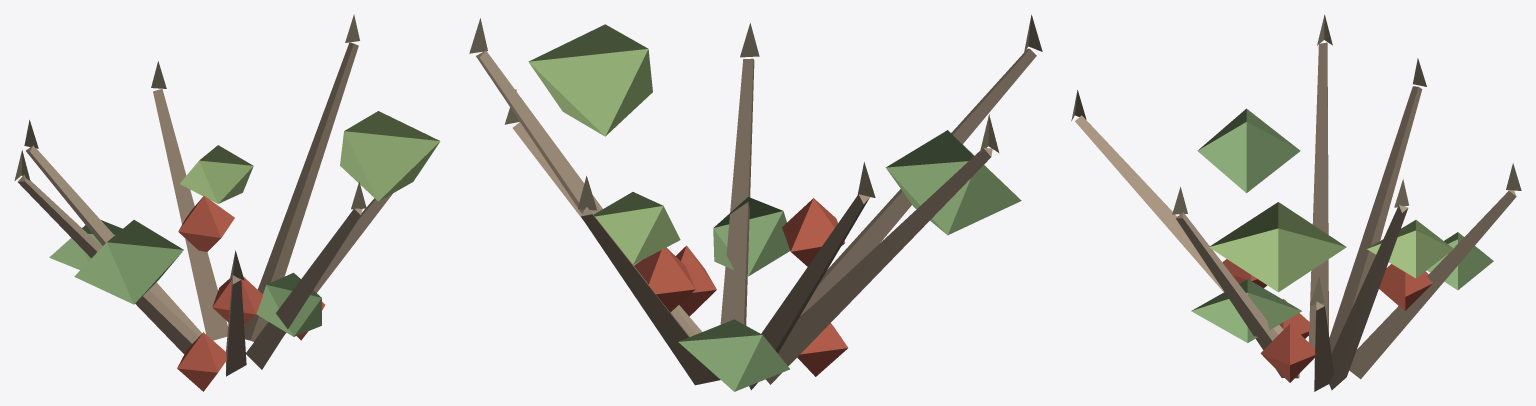
File: shrub.temp.bramble__spring.glb
3 views of the same model, side by side, from view 1: azimuth 30°, elevation 25°; view 2: azimuth 150°, elevation 25°; view 3: azimuth 270°, elevation 25° (orthographic). The views are drawn at different scales.
Parts seen in each view (by area): view 1: shrub.temp.bramble__spring; view 2: shrub.temp.bramble__spring; view 3: shrub.temp.bramble__spring.
Boxes of the visible parts, x1,y1,x2,y2 form: shrub.temp.bramble__spring: (14, 14, 440, 391); shrub.temp.bramble__spring: (469, 14, 1042, 391); shrub.temp.bramble__spring: (1071, 14, 1521, 391).
Bounding box in the file's own units: 2.59 × 1.74 × 2.52.
